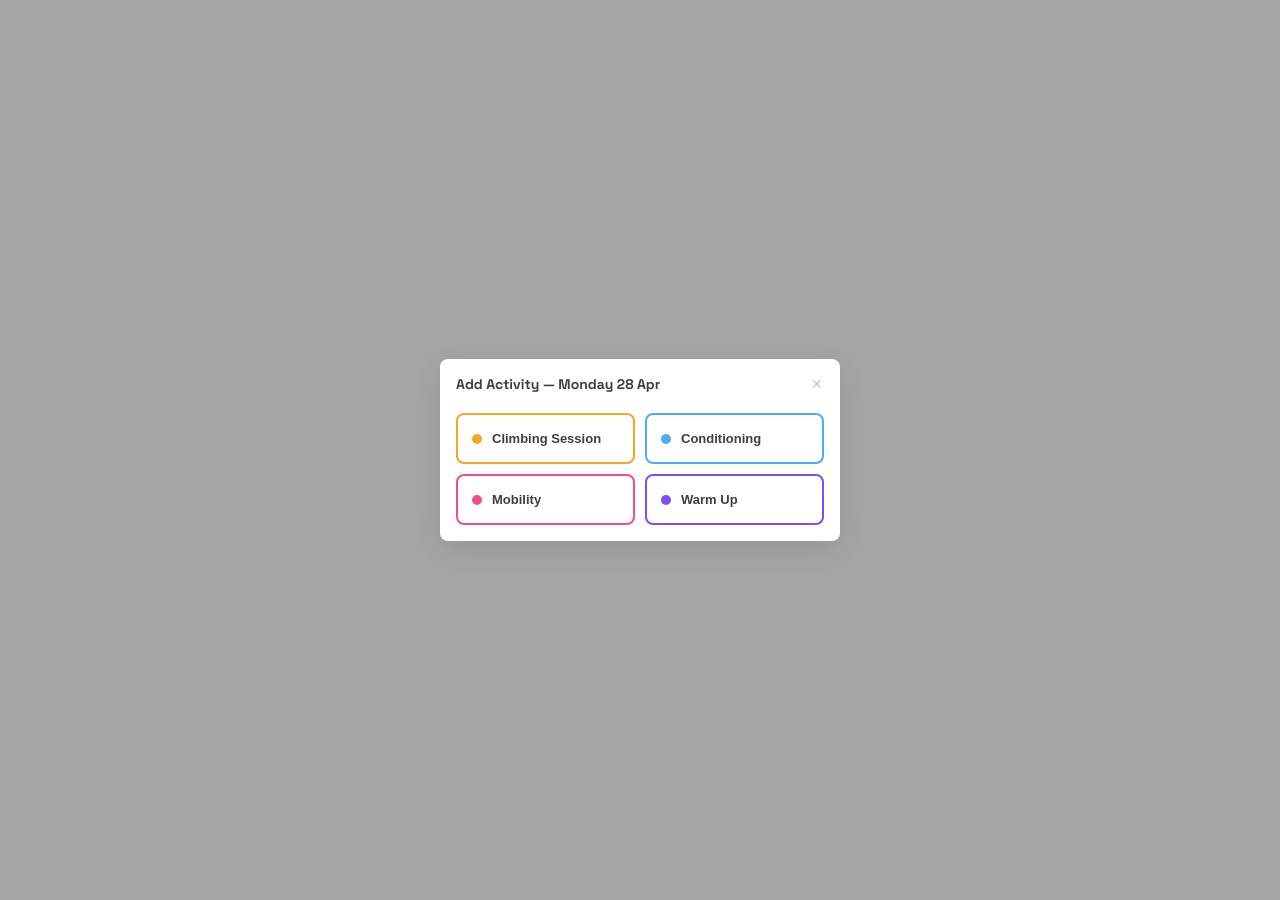
Test: AddActivityModal › Step 2: Climbing Session › shows four duration preset buttons
The width and height of the screenshot is (1280, 900).
Click the button "Climbing Session" at (546, 438), box [456,413,635,464]
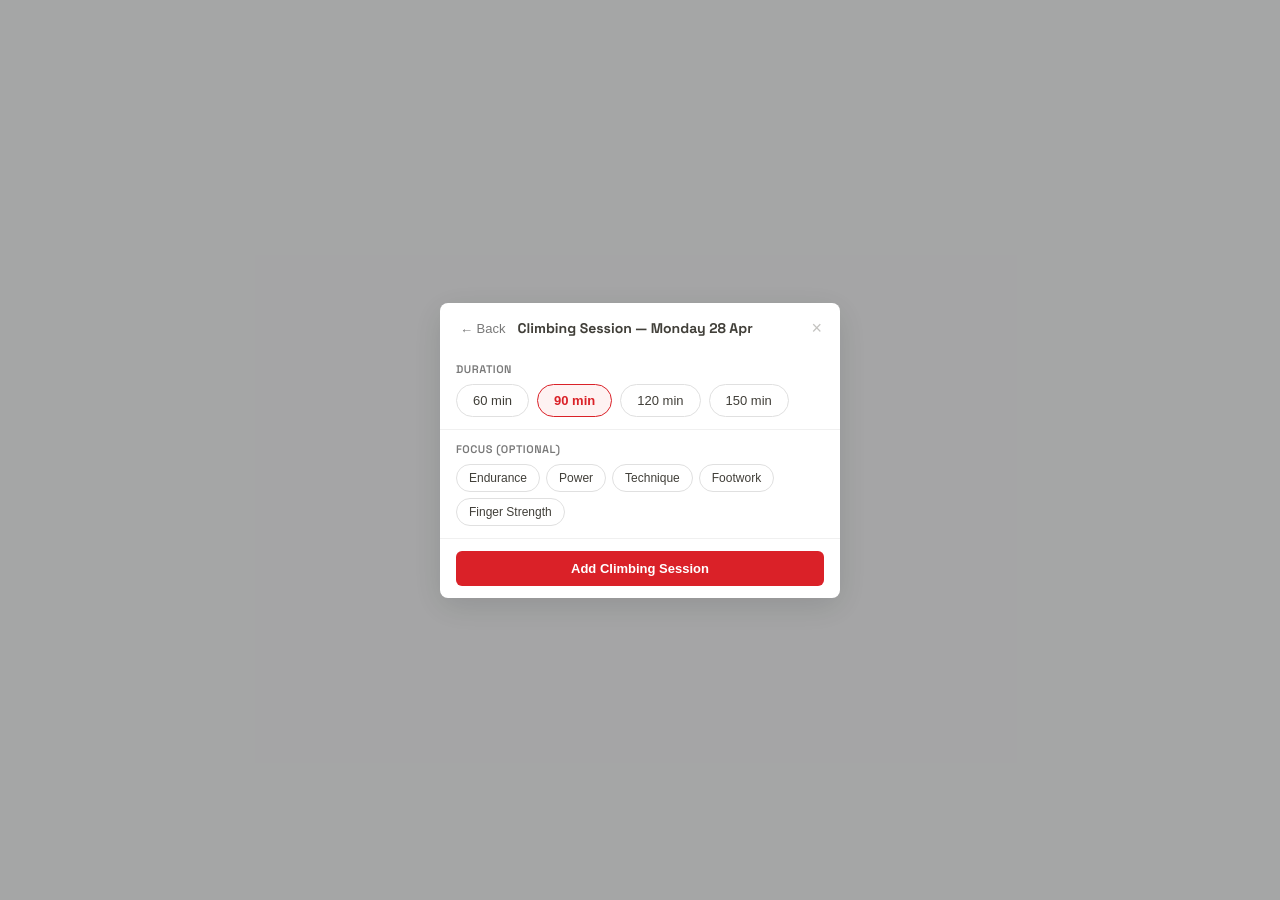
Result: the button "60 min" is shown at [456,384,529,416]
Result: the button "90 min" is shown at [537,384,612,416]
Result: the button "120 min" is shown at [620,384,700,416]
